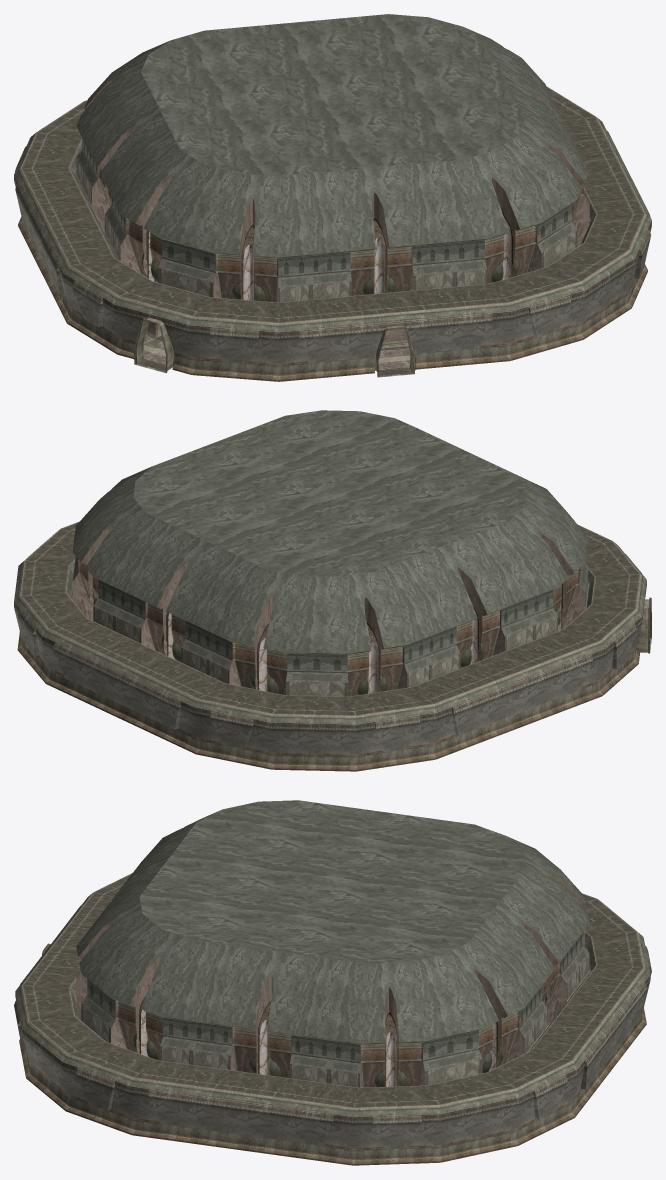
The model's file is thm_yavn_jedi_enclave_light_r12_tier4room_mesh_r12.fbx.
3 views of the same model, one above another, from view 1: azimuth 30°, elevation 25°; view 2: azimuth 150°, elevation 25°; view 3: azimuth 270°, elevation 25° (orthographic). The views are drawn at different scales.
Parts seen in each view (by area): view 1: mesh_node; view 2: mesh_node; view 3: mesh_node.
Boxes of the visible parts, bbox=[...] form: mesh_node: bbox=[14, 14, 651, 381]; mesh_node: bbox=[14, 410, 651, 771]; mesh_node: bbox=[14, 800, 651, 1165].
Bounding box in the file's own units: 38.33 × 10.21 × 38.33.
